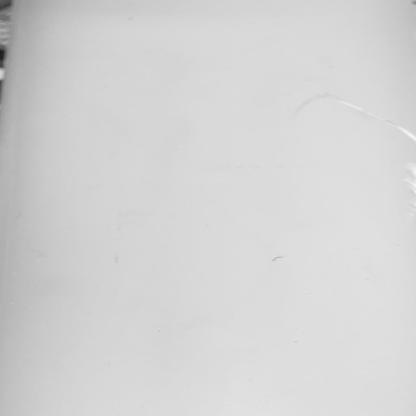sunshang: (336, 95, 416, 140), (399, 158, 416, 216)
